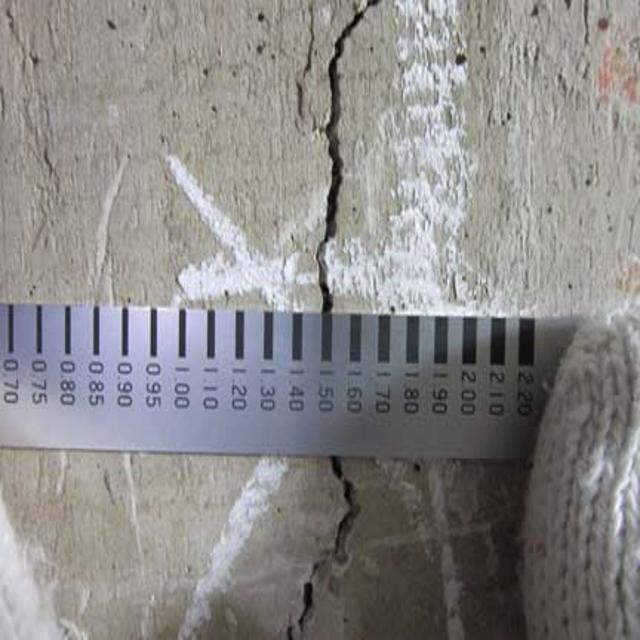crack: (279, 4, 384, 323), (261, 455, 374, 640)
